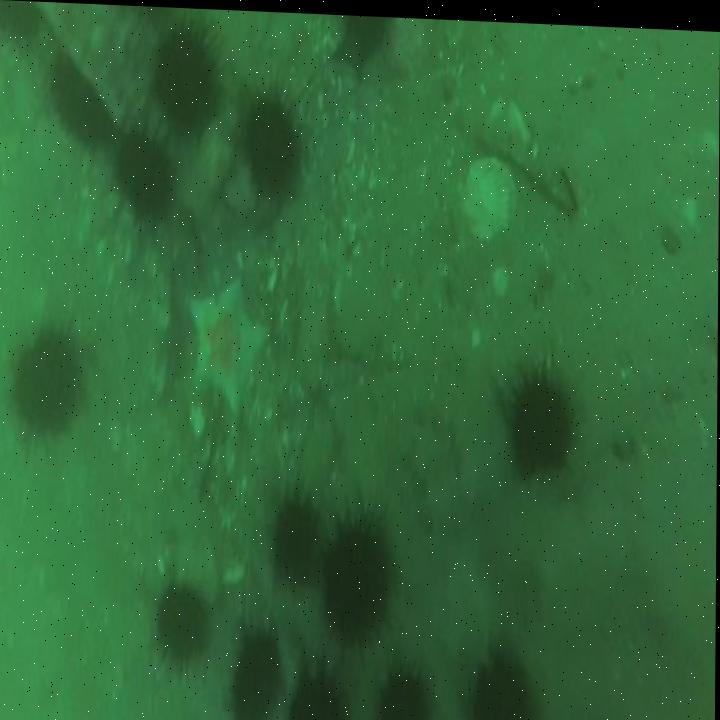echinus: (2, 306, 101, 457), (320, 491, 398, 652), (496, 344, 580, 493), (232, 63, 311, 208), (138, 14, 224, 141), (140, 554, 218, 688), (462, 621, 547, 720), (265, 468, 325, 602), (48, 50, 119, 159), (115, 116, 183, 228), (222, 609, 284, 720), (287, 636, 355, 720), (368, 648, 442, 720)
scallop: (462, 133, 520, 251)
starfish: (187, 279, 272, 417), (330, 15, 378, 84)
